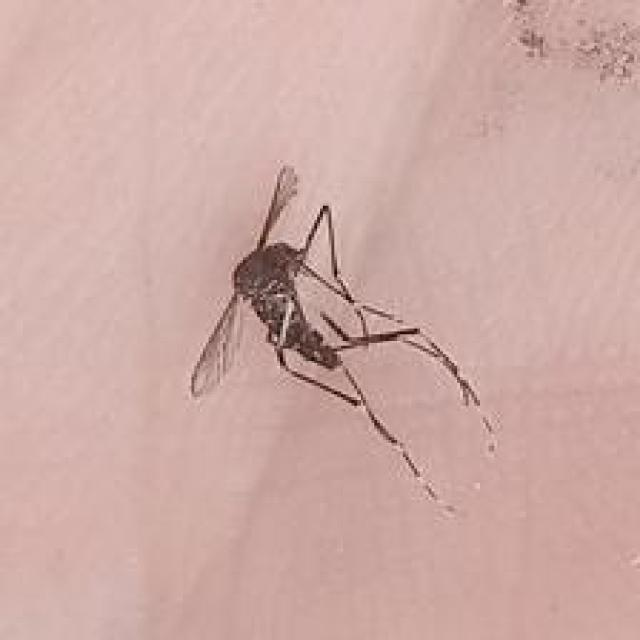Aedes albopictus: (189, 163, 497, 517)
